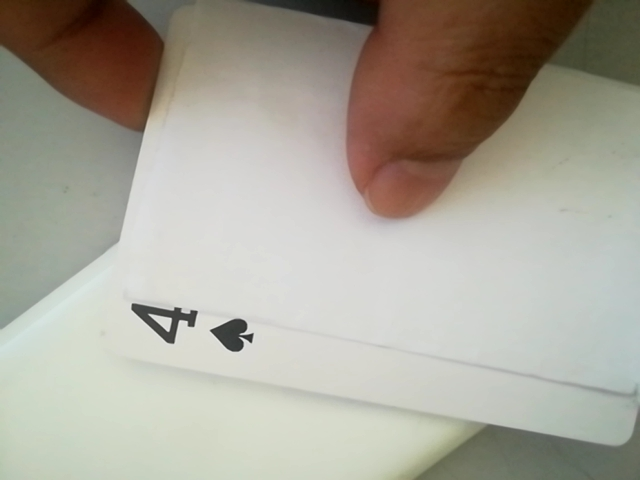ht 4: (111, 294, 270, 371)
